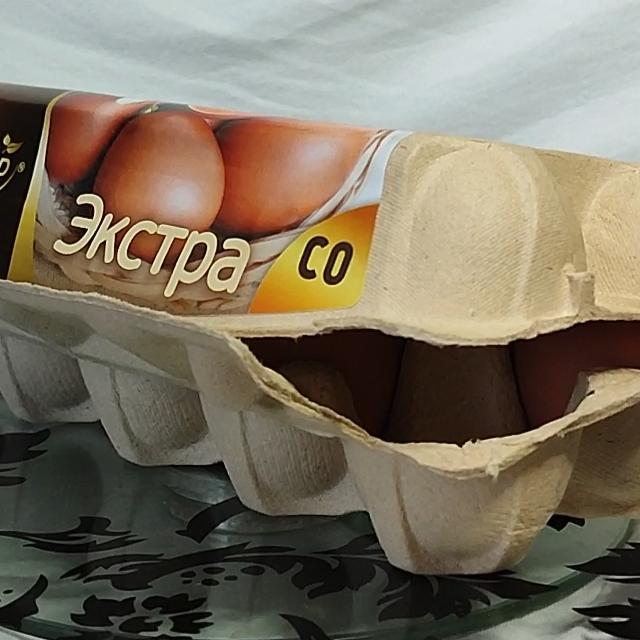egg: (0, 66, 640, 591)
